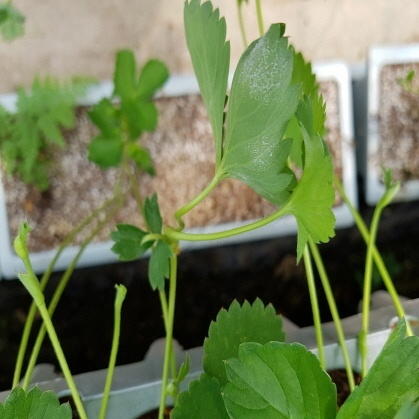Powdery_Leaf: (214, 178, 304, 397)
